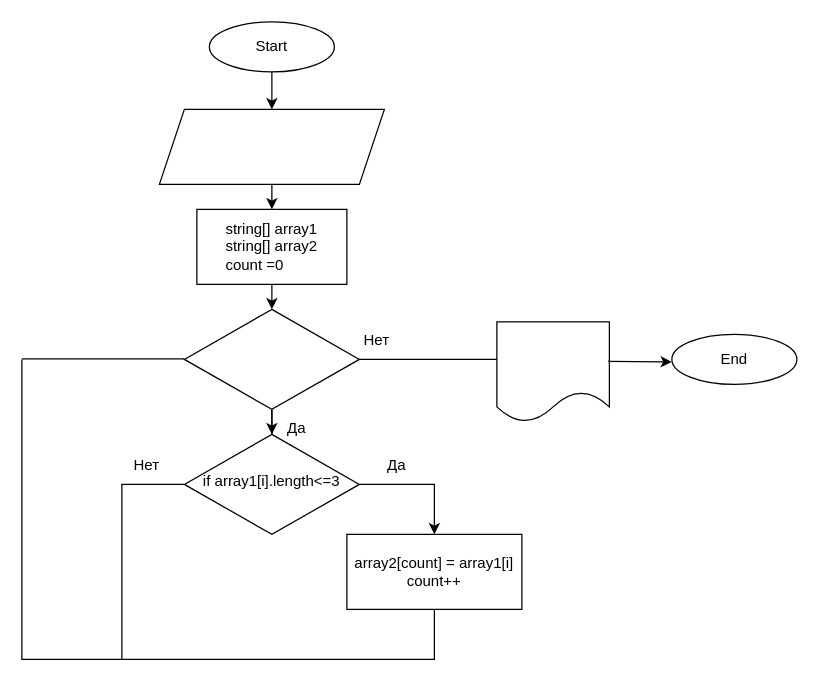
Some shapes in this 819 by 683 pixel diagram are drawn without their labels. The centre of each missing label's shape, as x and y in pixels:
"for (i=0; i<array1.length; i++)" goes at (x=271, y=358).
"print(array2)" goes at (x=552, y=371).
"Ввод N (длина массива) Ввод исходных данных (заполнение массива строками)" goes at (x=271, y=146).
